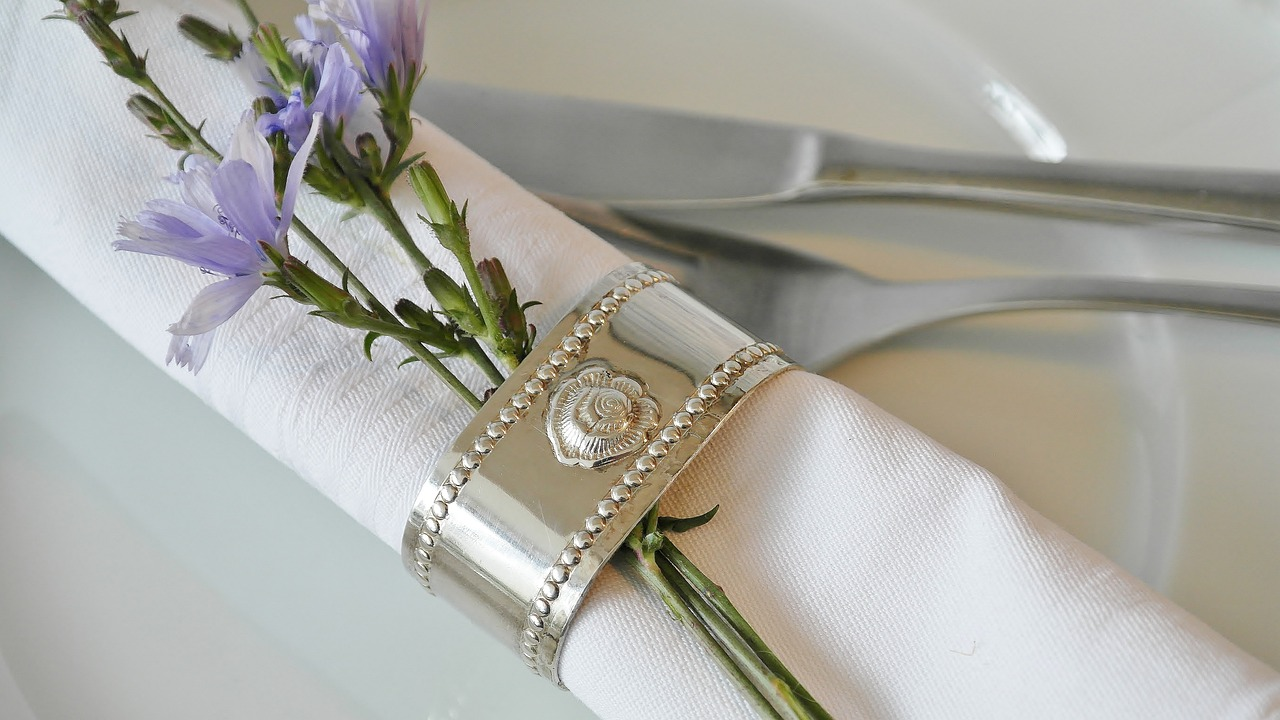knife: (232, 56, 1280, 260)
